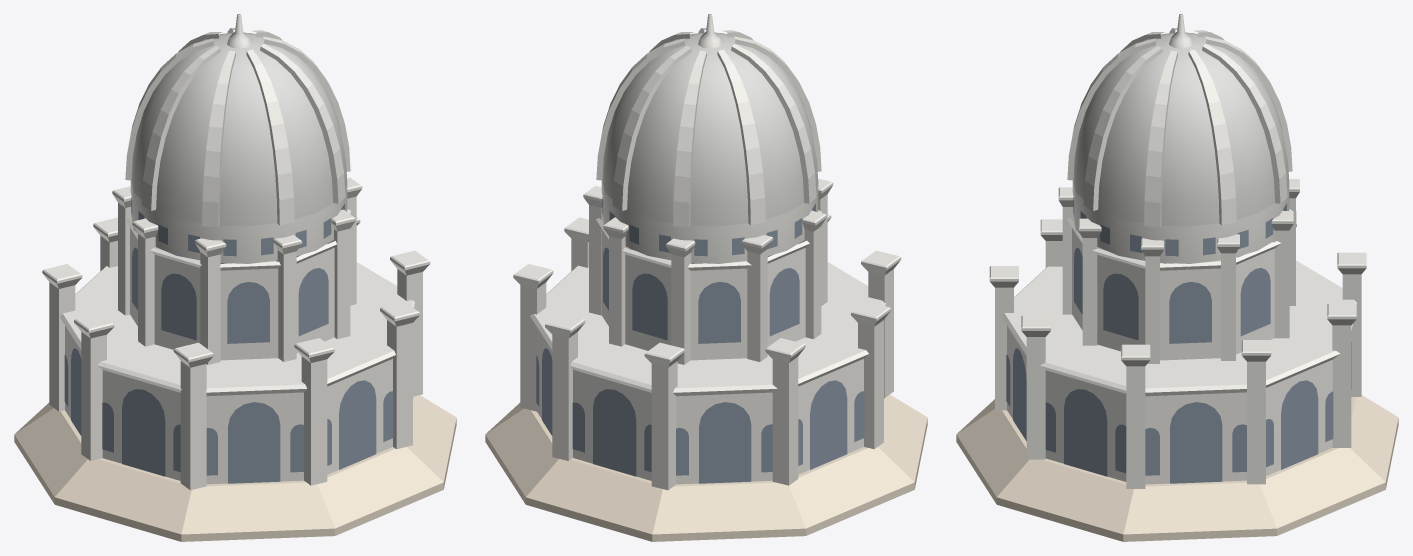
3 renders of one model, left to right at view 1: azimuth 30°, elevation 25°; view 2: azimuth 150°, elevation 25°; view 3: azimuth 270°, elevation 25°, orthographic.
Visible parts, largest first — view 1: baha-i-house-of-worship; view 2: baha-i-house-of-worship; view 3: baha-i-house-of-worship.
Boxes of the visible parts, left/top/right/bottom form: baha-i-house-of-worship: left=14, top=14, right=456, bottom=541; baha-i-house-of-worship: left=485, top=14, right=927, bottom=541; baha-i-house-of-worship: left=956, top=14, right=1398, bottom=541.
Size of the model in its own units: 53.68 by 58.2 by 53.65.
